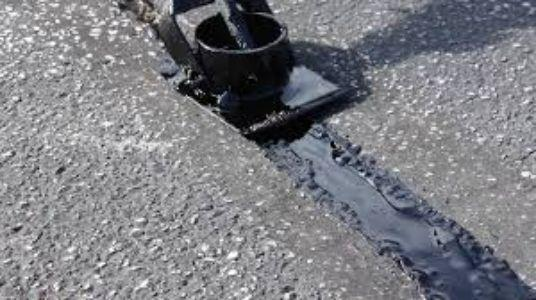crack: (274, 128, 534, 300)
